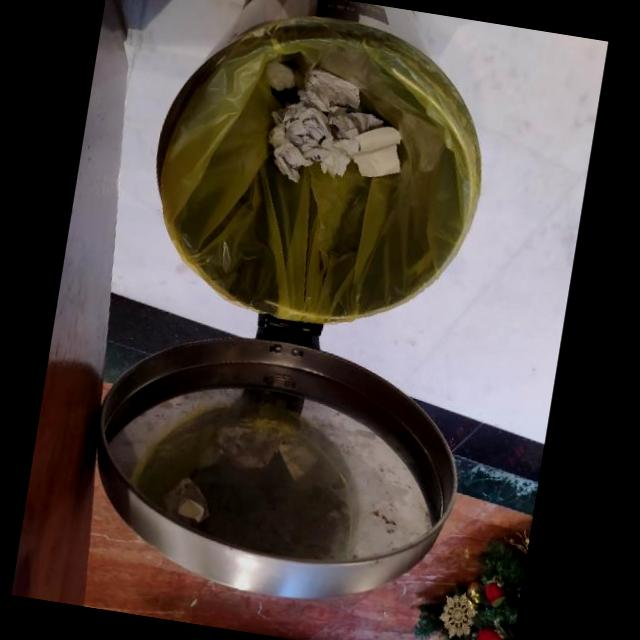giay: (268, 105, 324, 155), (300, 66, 360, 112), (354, 126, 401, 176), (304, 138, 359, 180), (283, 100, 332, 144), (328, 106, 384, 140), (273, 142, 313, 183), (266, 58, 295, 91)
